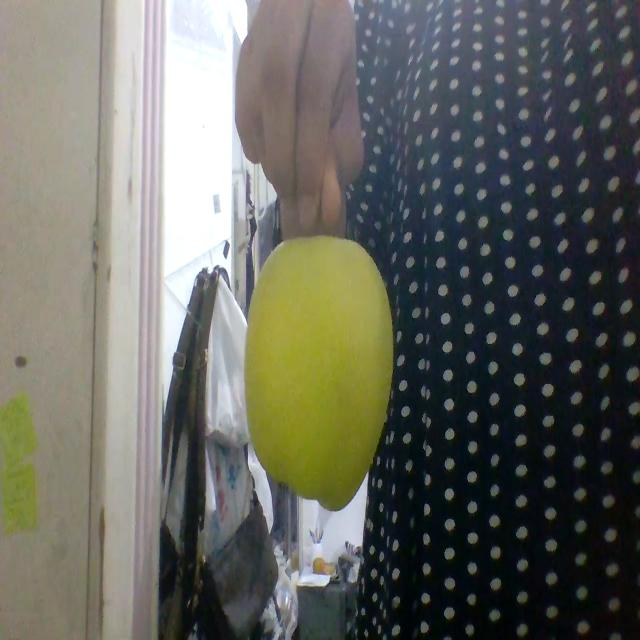50-_ripeness: (244, 237, 393, 510)
